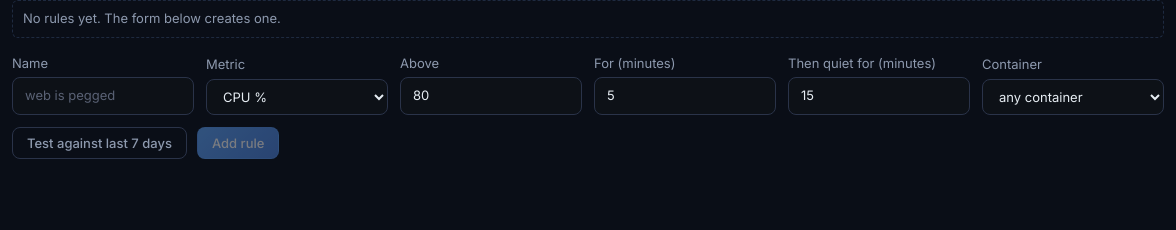
Scenario: AlertRuleEditor › reports what the rule would have done, in counts
The image size is (1176, 230).
What coordinates should you click on to do the following:
click the button "Test against last 7 days"
I would click on:
 (100, 143)
Its box is [12, 126, 187, 159].
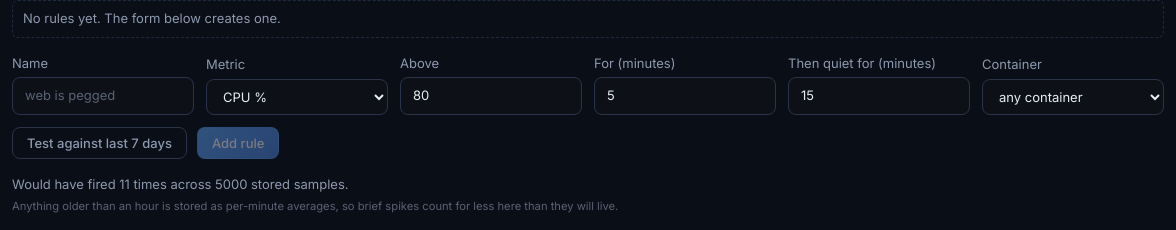
Expected: the text "Would have fired 11 times" is shown, [12, 176, 348, 192]
